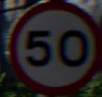Speed limit: (8, 5, 93, 85)
